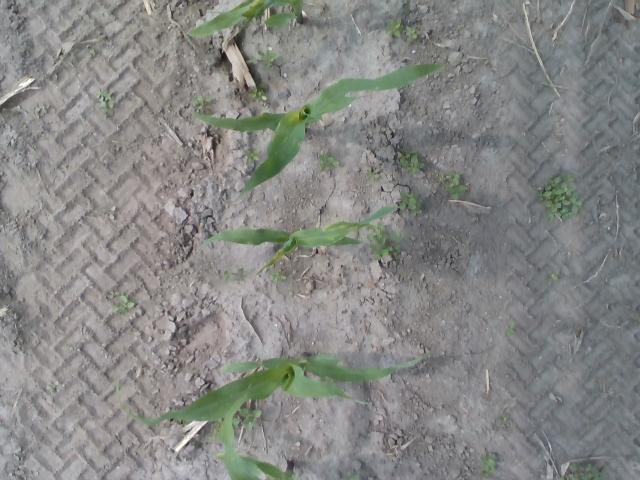Maize: (194, 62, 456, 195), (115, 352, 431, 426), (196, 205, 401, 278), (213, 385, 297, 480), (188, 0, 304, 38)
Weeds: (537, 172, 583, 222), (366, 222, 402, 260), (558, 460, 606, 480), (438, 168, 468, 200), (396, 149, 426, 176), (232, 406, 260, 430), (398, 189, 422, 216), (94, 88, 115, 116), (246, 50, 278, 68), (112, 292, 136, 316), (480, 453, 498, 480), (318, 151, 340, 173), (190, 95, 214, 114), (222, 268, 248, 284), (247, 82, 268, 100), (384, 17, 402, 37), (404, 24, 421, 43), (208, 416, 220, 442), (268, 270, 288, 284), (246, 148, 260, 164), (365, 168, 380, 180), (498, 415, 512, 427), (504, 324, 516, 336), (550, 272, 562, 282), (342, 473, 359, 480), (108, 290, 120, 299), (88, 49, 97, 58), (46, 384, 56, 392)
